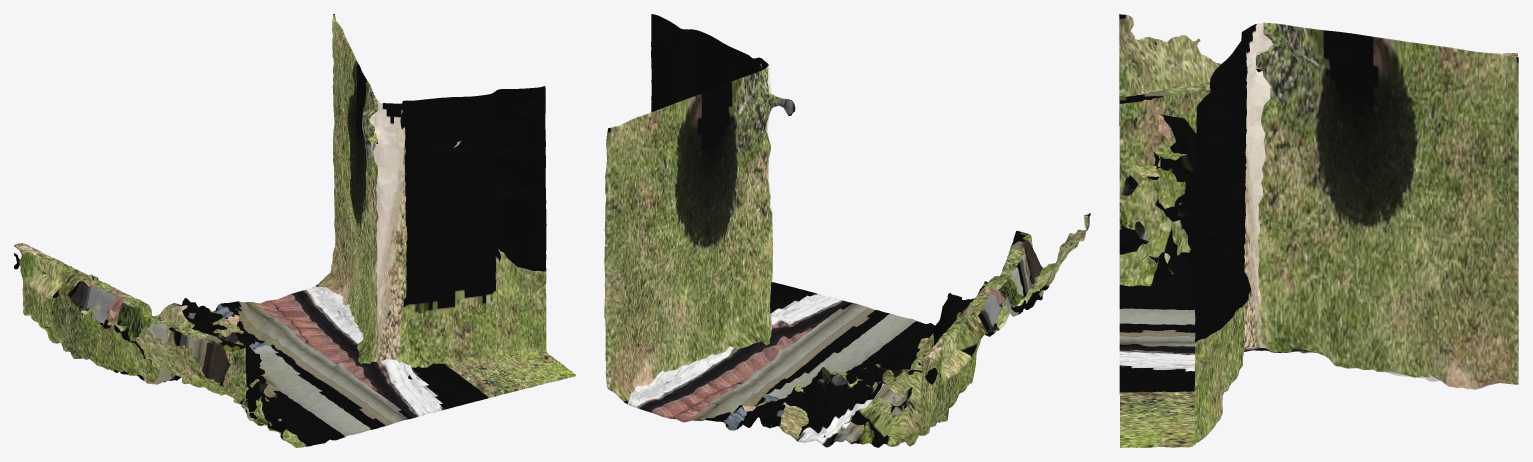
3 views of the same model, side by side, from view 1: azimuth 30°, elevation 25°; view 2: azimuth 150°, elevation 25°; view 3: azimuth 270°, elevation 25° (orthographic). The views are drawn at different scales.
Visible parts, largest first — view 1: node_91; view 2: node_91; view 3: node_91.
Boxes of the visible parts, x1,y1,x2,y2 form: node_91: [14, 14, 575, 447]; node_91: [604, 14, 1090, 447]; node_91: [1119, 14, 1518, 447].
Bounding box in the file's own units: 7.93 × 5.17 × 5.36.
Materials: 1 (1 with a texture image).
